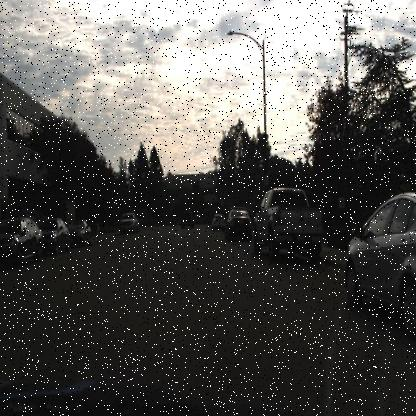car: (343, 190, 415, 334), (252, 184, 323, 262), (1, 214, 43, 265), (38, 217, 72, 258), (40, 216, 69, 258), (225, 207, 253, 241), (222, 209, 250, 241), (64, 218, 90, 250), (70, 219, 93, 250), (119, 210, 140, 236), (180, 208, 195, 233), (210, 212, 228, 232)
